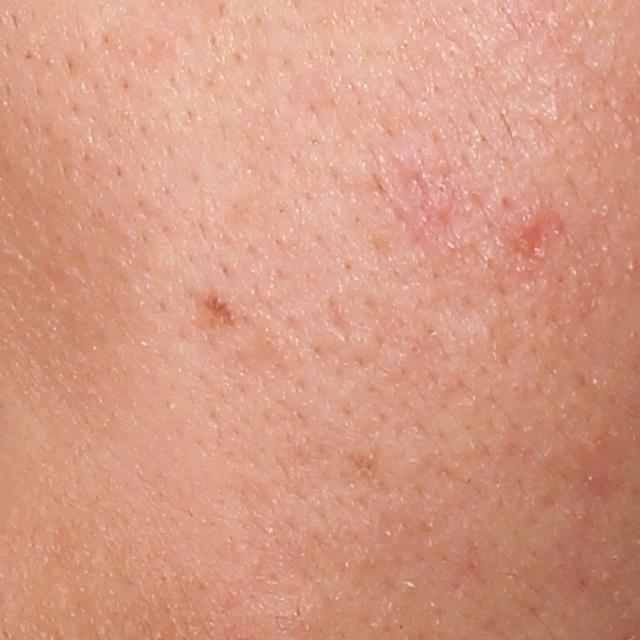atrophic_scar: (320, 292, 357, 340)
nevus: (189, 289, 233, 332)
papule: (519, 210, 542, 237)
